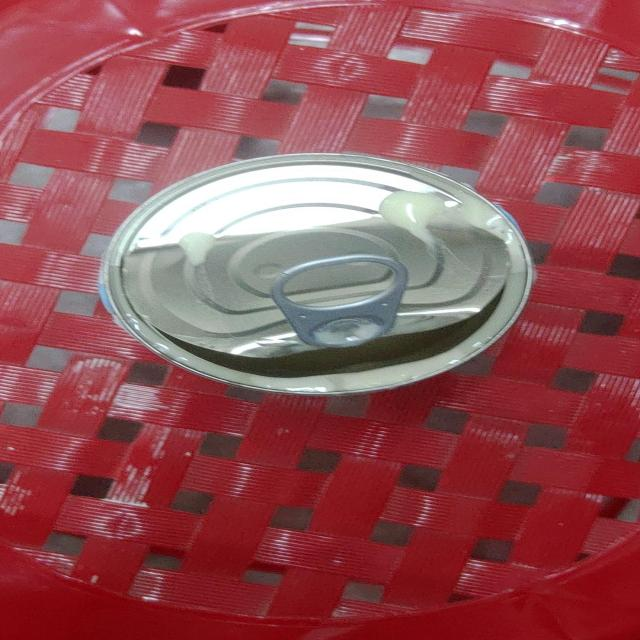can: (108, 150, 536, 398)
pop tab: (268, 251, 411, 347)
